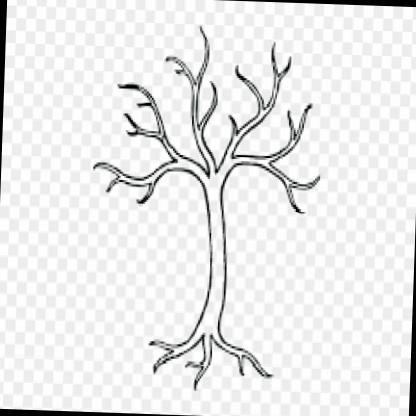branch_sharp: (91, 23, 326, 215)
root_only: (148, 338, 276, 390)
trunk_reflex: (196, 193, 231, 322)
